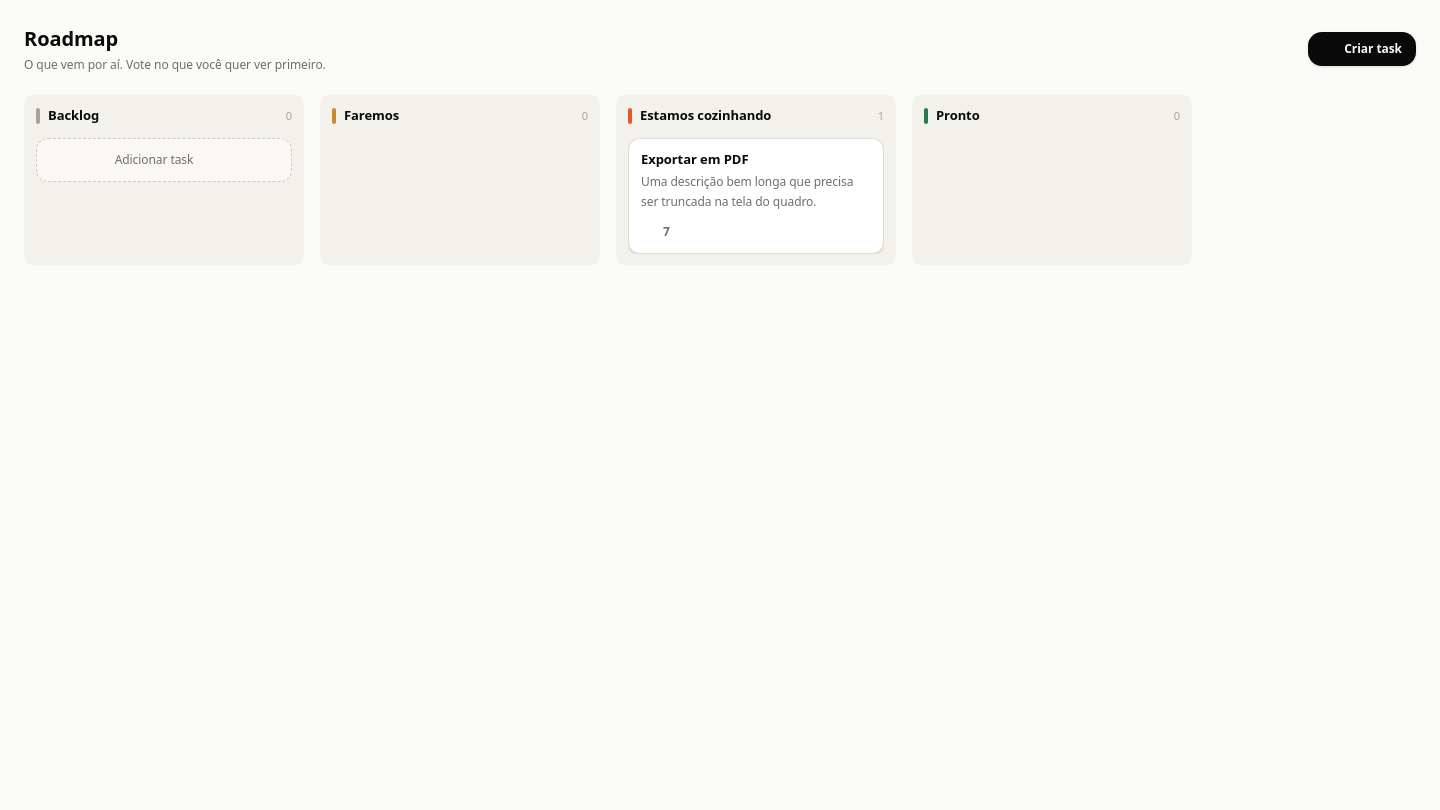
roadmap — popup de detalhe do card › mostra a contagem de votos e o estado do card
Click the button with test id "abrir-detalhe-c1" at {"x": 756, "y": 159}, box [641,150,871,168]
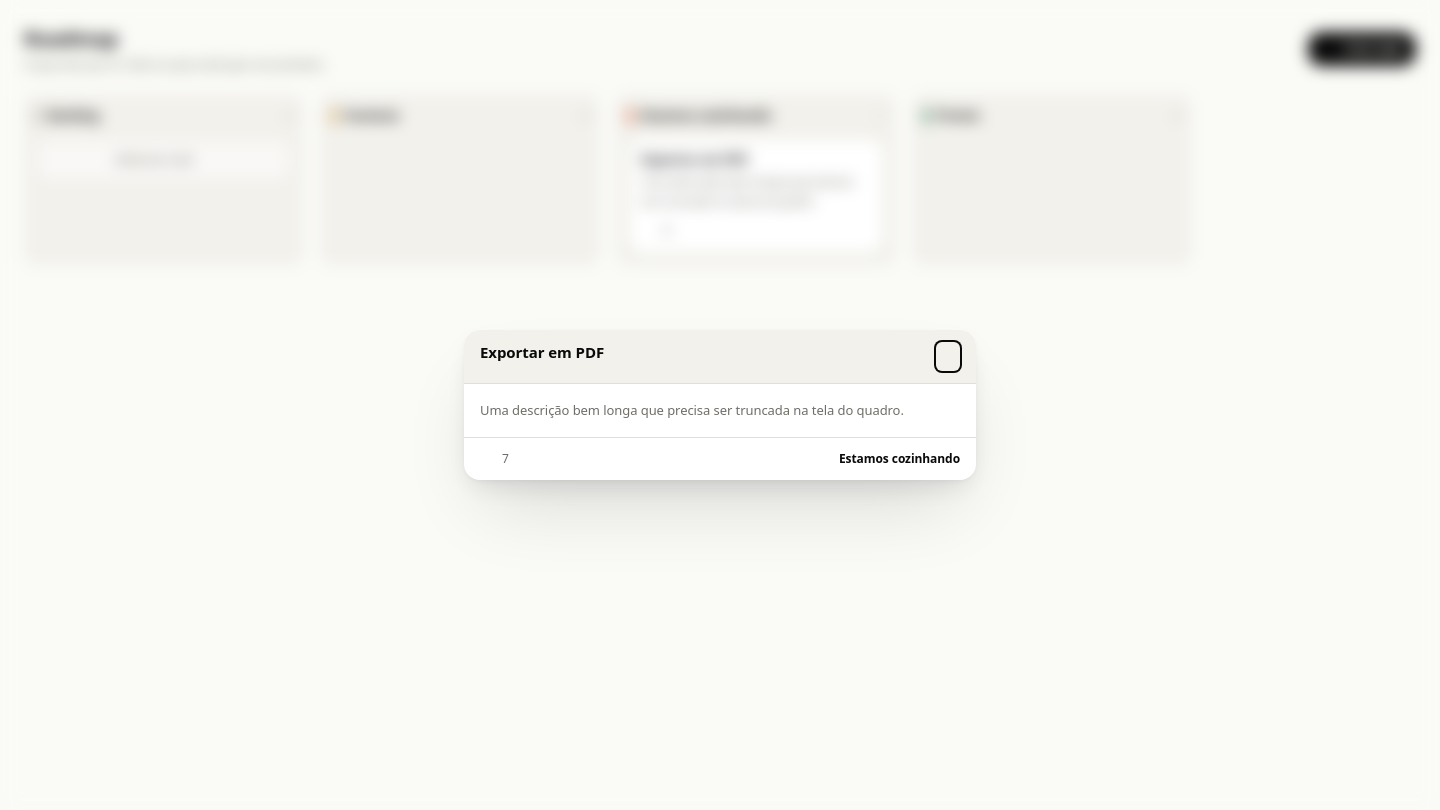
Expected: the element with test id "detalhe-votos" reads "7", [502,450,509,467]
Expected: the text with test id "detalhe-estado" reads "Estamos cozinhando", [839,450,960,467]
